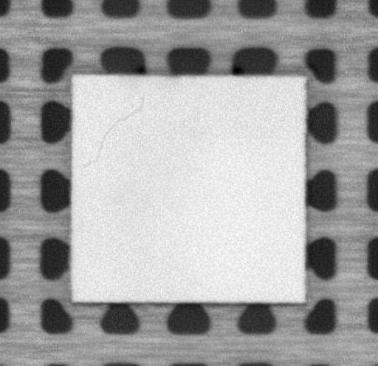DIE_CRACK: (81, 96, 144, 170)
